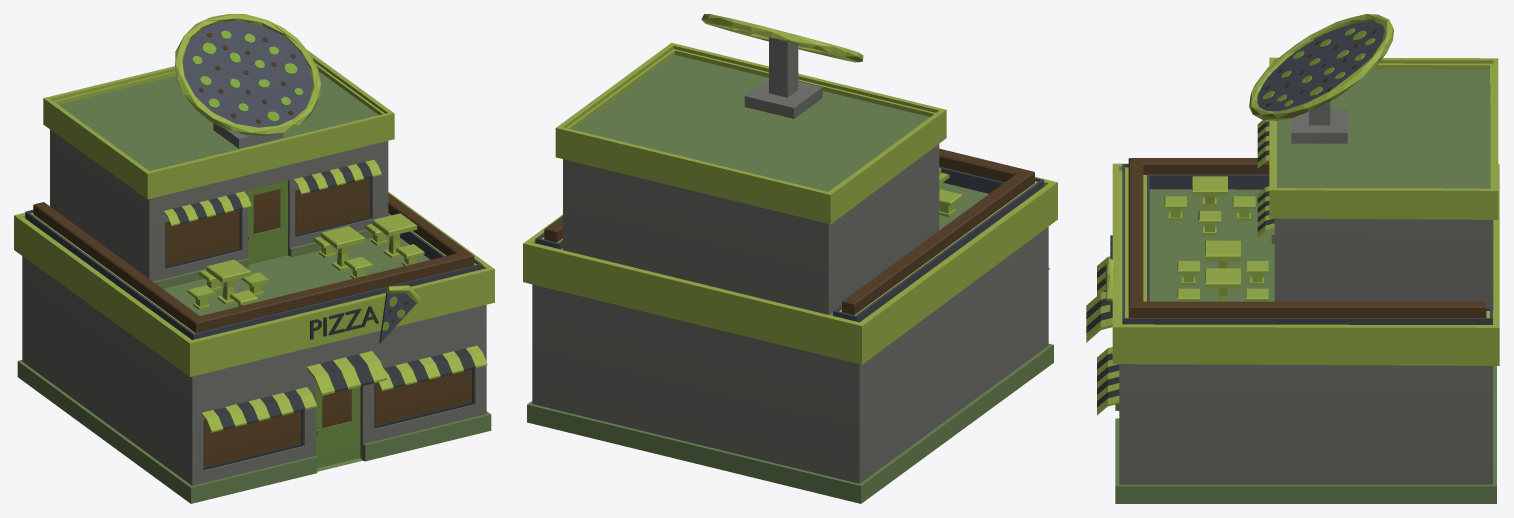
The model's file is Pizza_01.fbx.
3 renders of one model, left to right at view 1: azimuth 30°, elevation 25°; view 2: azimuth 150°, elevation 25°; view 3: azimuth 270°, elevation 25°, orthographic. The views are drawn at different scales.
Parts seen in each view (by area): view 1: Pizza_01; view 2: Pizza_01; view 3: Pizza_01.
Part boxes in pixels (left/top/right/bottom): Pizza_01: left=14, top=14, right=494, bottom=503; Pizza_01: left=523, top=14, right=1057, bottom=503; Pizza_01: left=1086, top=14, right=1499, bottom=503.
Size of the model in its own units: 7.06 by 7.96 by 7.54.
